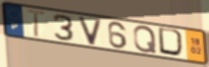3: (52, 13, 76, 42)
6: (108, 21, 129, 50)
D: (157, 26, 187, 59)
Q: (132, 25, 158, 55)
T: (26, 8, 47, 38)
V: (77, 16, 104, 47)
